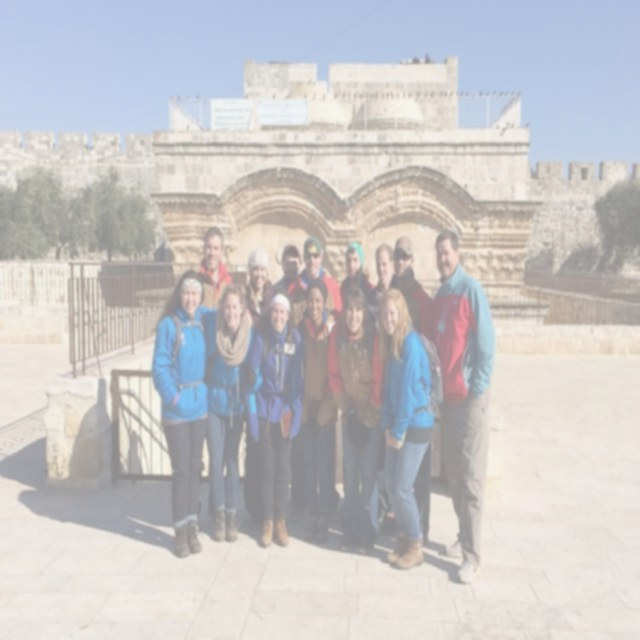pessoa: (148, 266, 254, 563), (420, 224, 498, 588), (377, 284, 447, 572), (197, 276, 266, 546), (238, 279, 306, 552), (381, 232, 436, 548), (325, 286, 388, 558), (195, 224, 238, 525), (294, 276, 336, 544), (286, 236, 344, 332), (262, 240, 308, 328), (338, 241, 382, 315), (242, 246, 276, 330), (364, 242, 394, 304)
